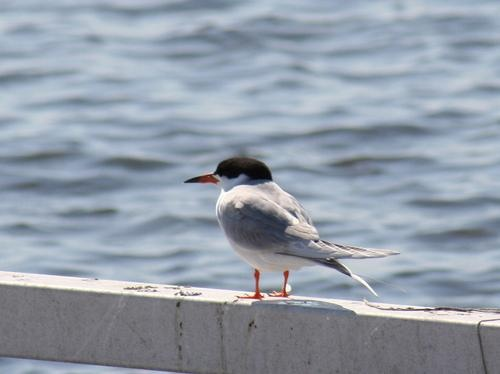bird: (185, 155, 405, 300)
